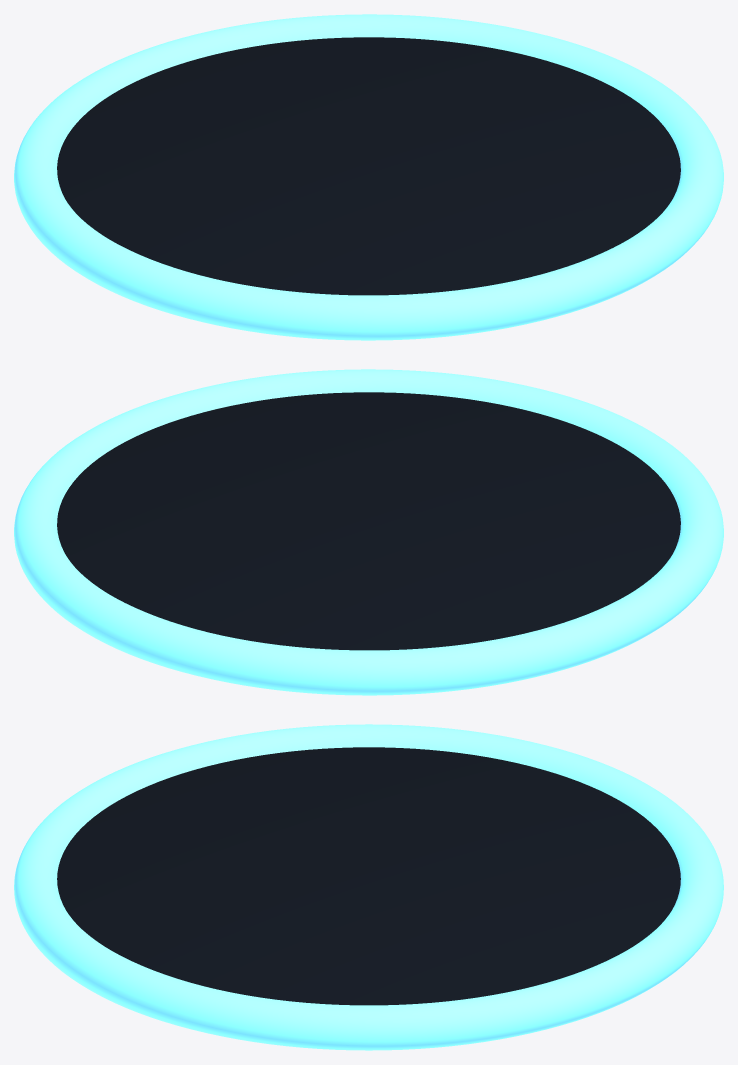
File: 04_eclipse_portal_ring.glb
3 views of the same model, one above another, from view 1: azimuth 30°, elevation 25°; view 2: azimuth 150°, elevation 25°; view 3: azimuth 270°, elevation 25° (orthographic).
Parts seen in each view (by area): view 1: Eclipse_VoidDisc, Eclipse_HaloRing; view 2: Eclipse_VoidDisc, Eclipse_HaloRing; view 3: Eclipse_VoidDisc, Eclipse_HaloRing.
Part boxes in pixels (x1,y1,x2,y2): Eclipse_VoidDisc: (57,37,680,295); Eclipse_HaloRing: (14,14,723,340); Eclipse_VoidDisc: (57,392,680,650); Eclipse_HaloRing: (14,369,723,695); Eclipse_VoidDisc: (57,747,680,1005); Eclipse_HaloRing: (14,724,723,1050).
Bounding box in the file's own units: 6.92 × 0.44 × 6.92.
